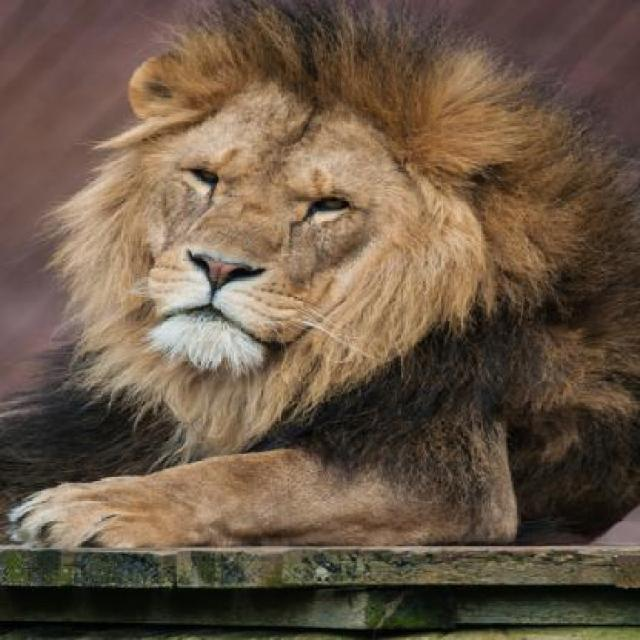Lion: (4, 0, 638, 566)
